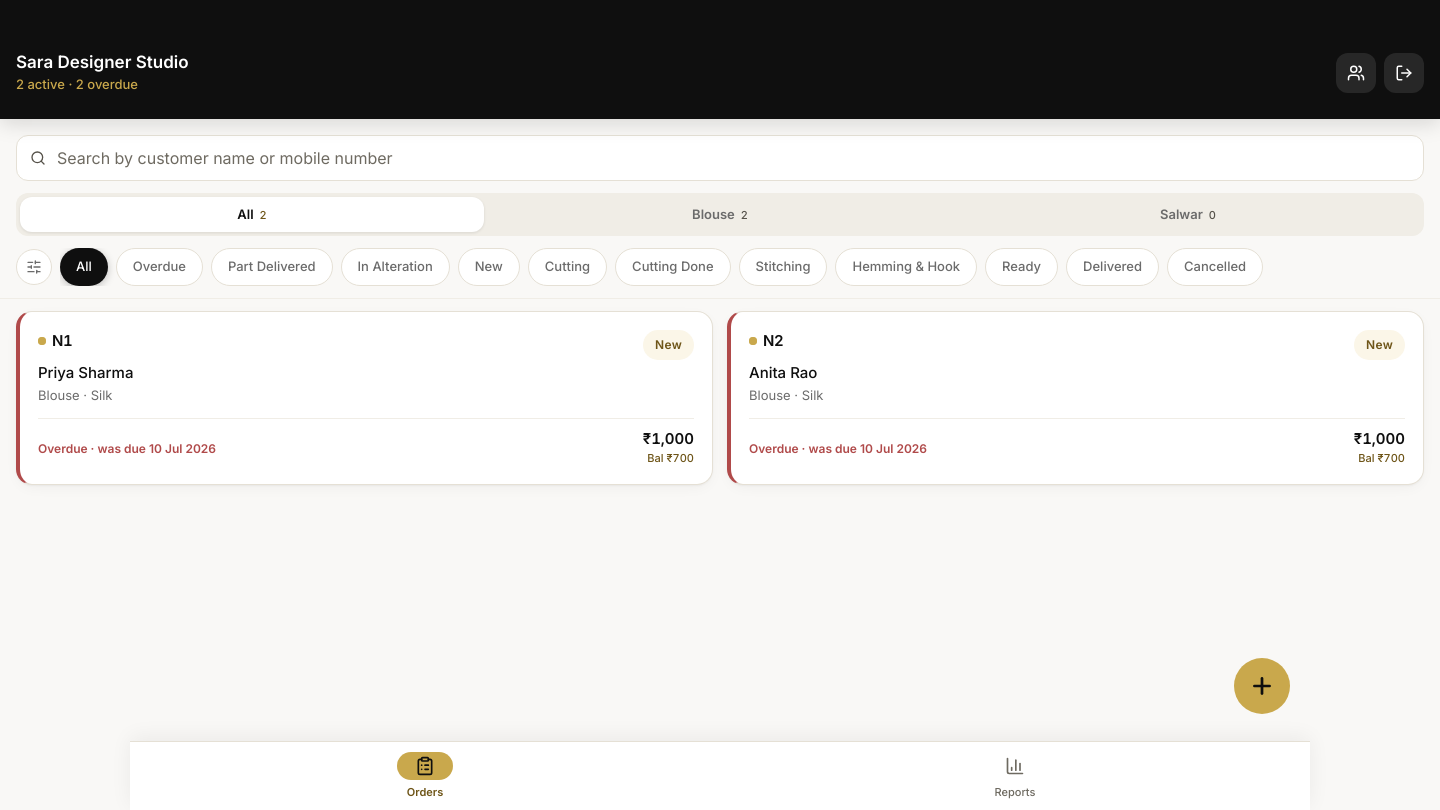
OrdersBody › searches by customer name
The width and height of the screenshot is (1440, 810).
Type "priya" into the field named "Search orders" at (720, 158), box [16,135,1424,181]
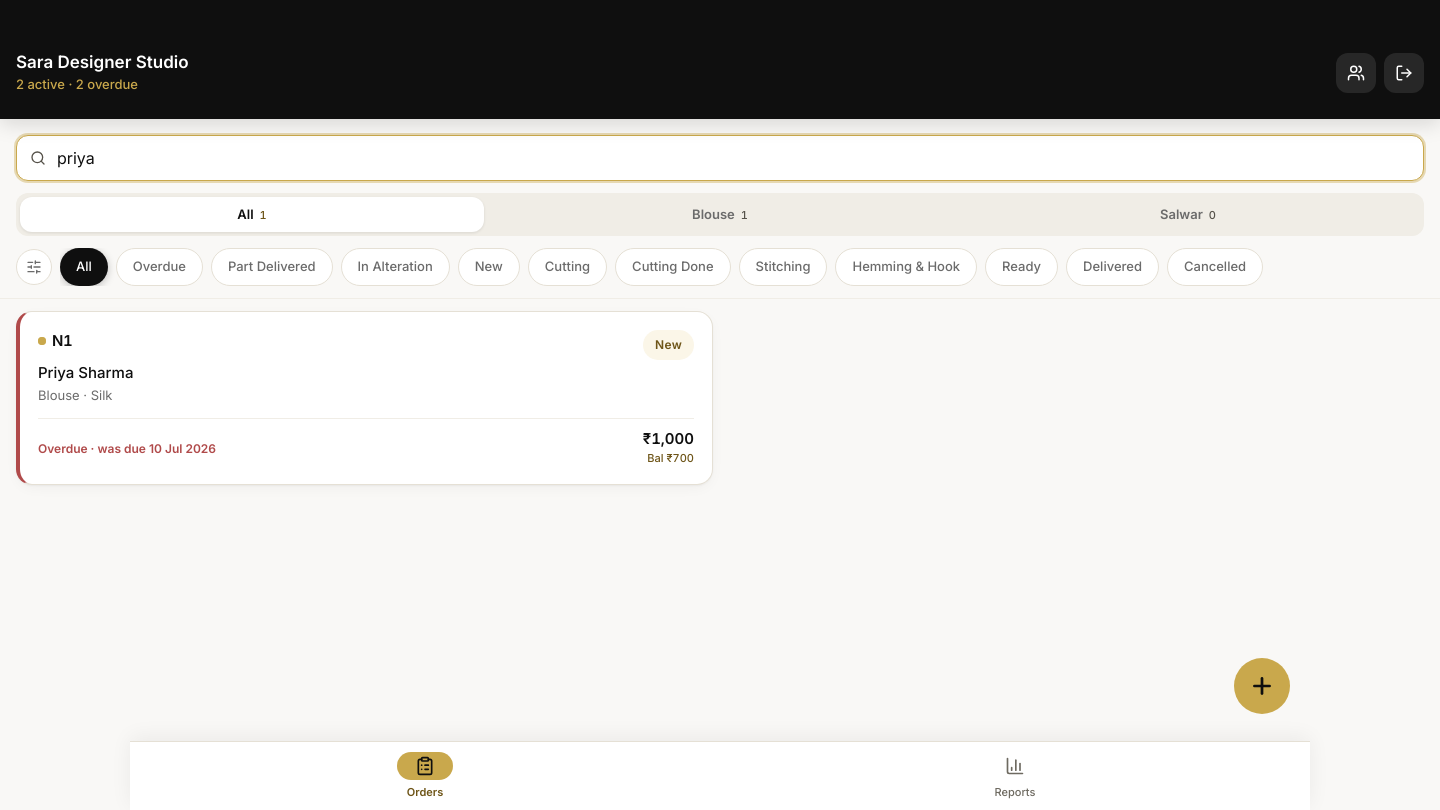
Expected: the text "N1" is shown, [52,330,72,352]
Result: the button "N2" is gone
